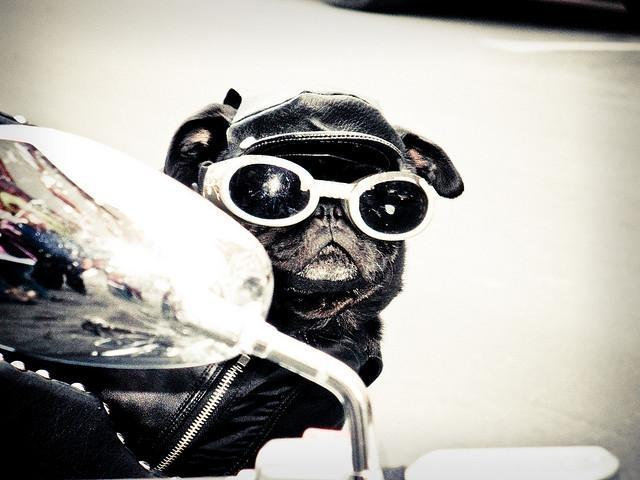motorcycle: (1, 124, 382, 472)
